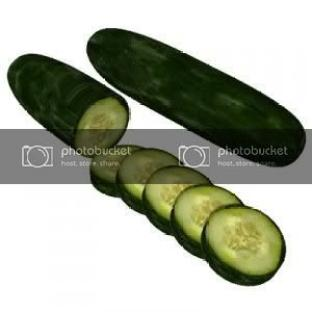Cucumber: (88, 30, 305, 166), (8, 55, 128, 155), (202, 205, 285, 284), (171, 186, 241, 257), (143, 166, 211, 234), (117, 149, 178, 213), (90, 145, 141, 196)
